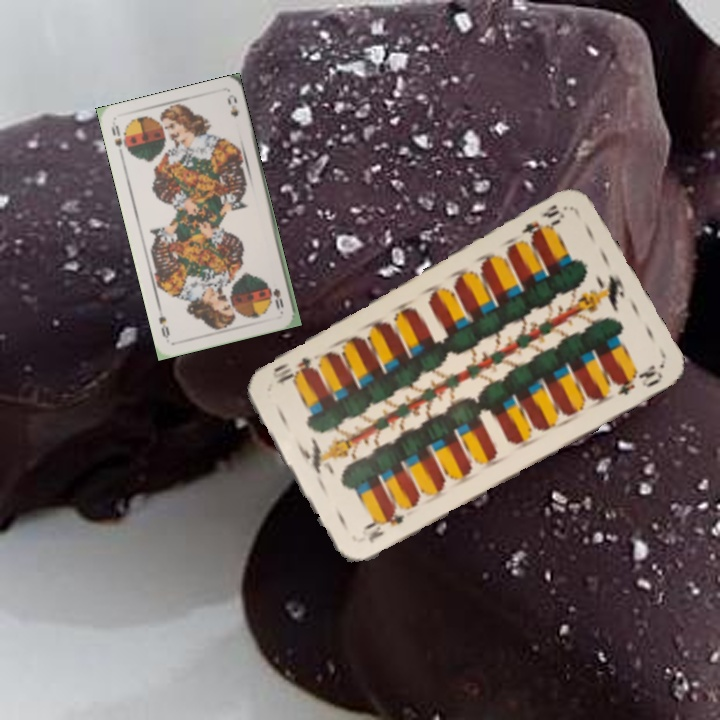E10: (517, 200, 568, 246), (361, 508, 408, 546)
SO: (107, 121, 130, 155), (269, 284, 286, 312)
